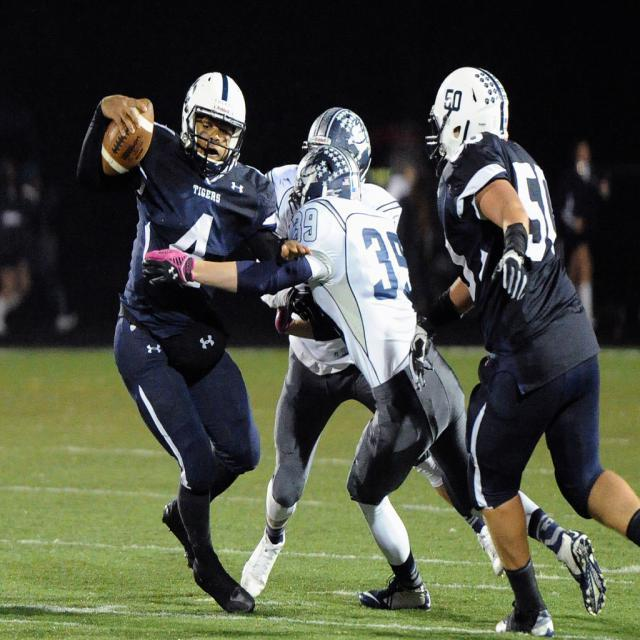ball: (96, 97, 153, 176)
